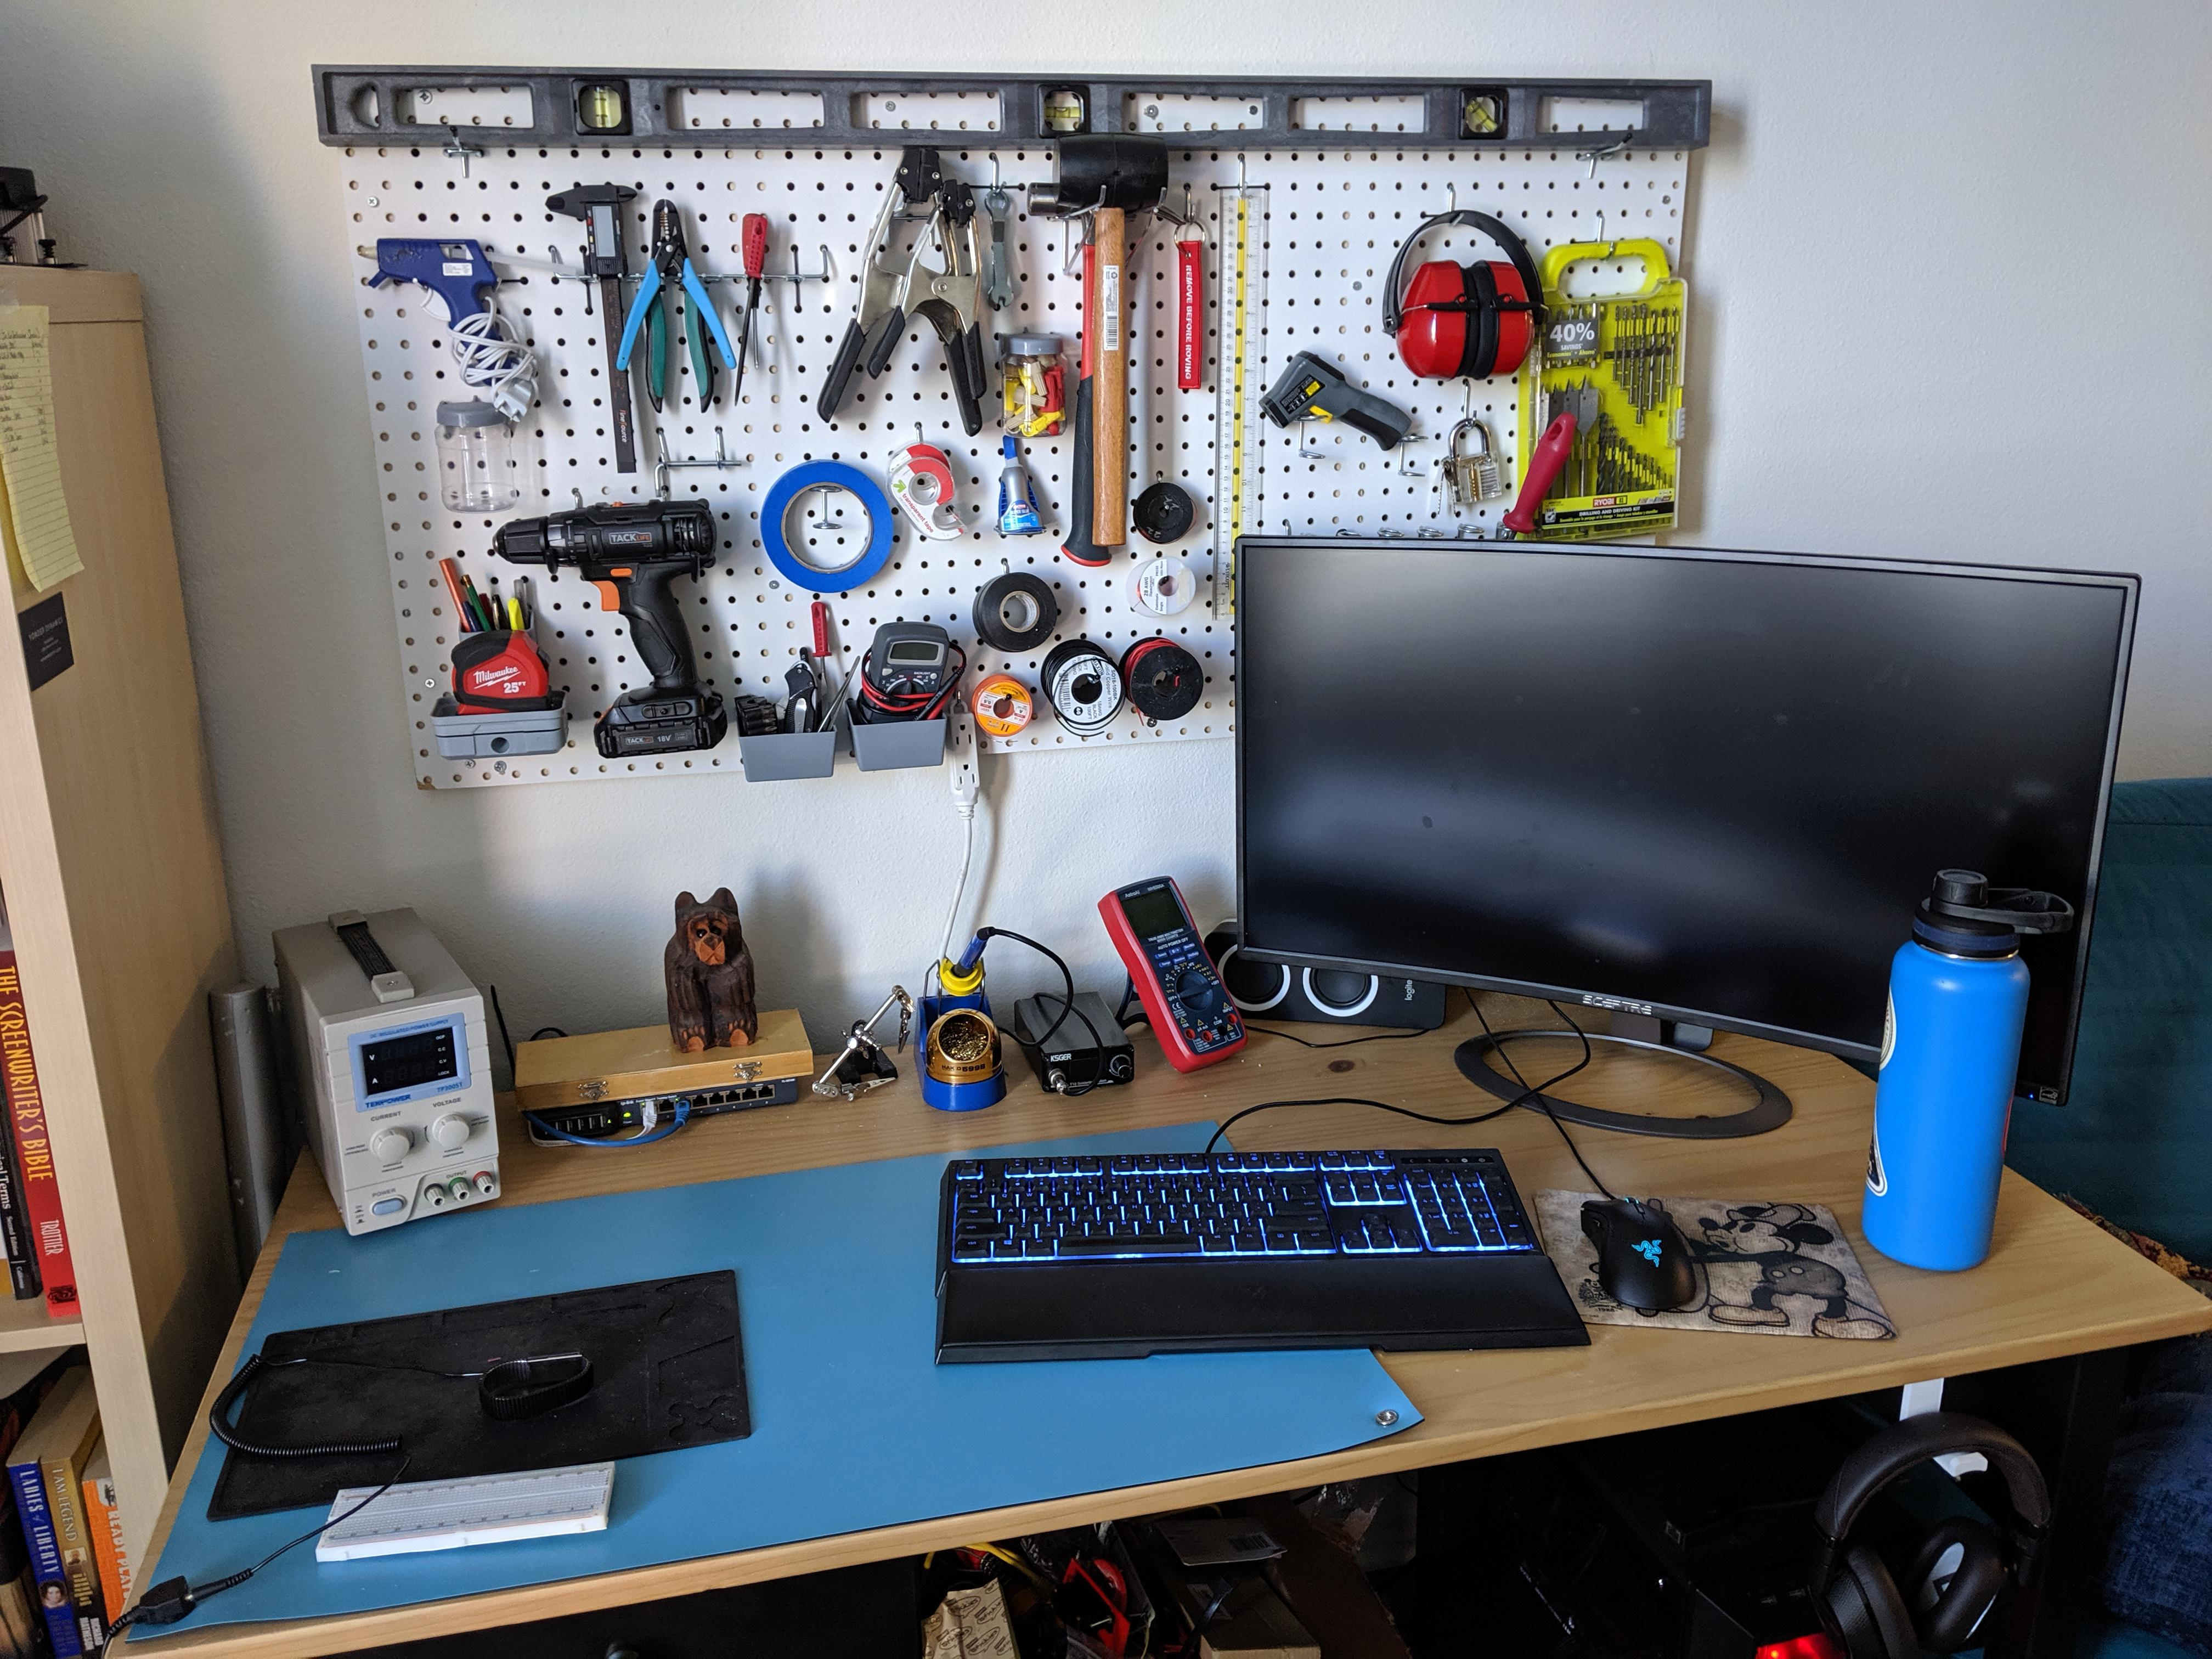Decoration (Generic): (636, 882, 794, 1049)
External Speakers (Generic): (1209, 922, 1456, 1040)
Headphones: (1794, 1408, 2055, 1636)
Keyboard (Gaming): (944, 1147, 1569, 1342)
Monitor (Landscape): (1244, 544, 2066, 1098)
Mouse (Gaming): (1573, 1182, 1698, 1314)
Mousepad (Generic): (1559, 1182, 1888, 1333)
Water Bottle: (1886, 859, 2013, 1267)
